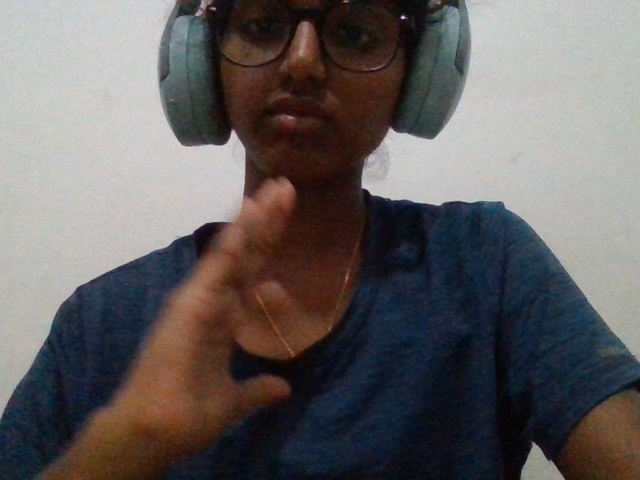Fine: (101, 165, 335, 462)
